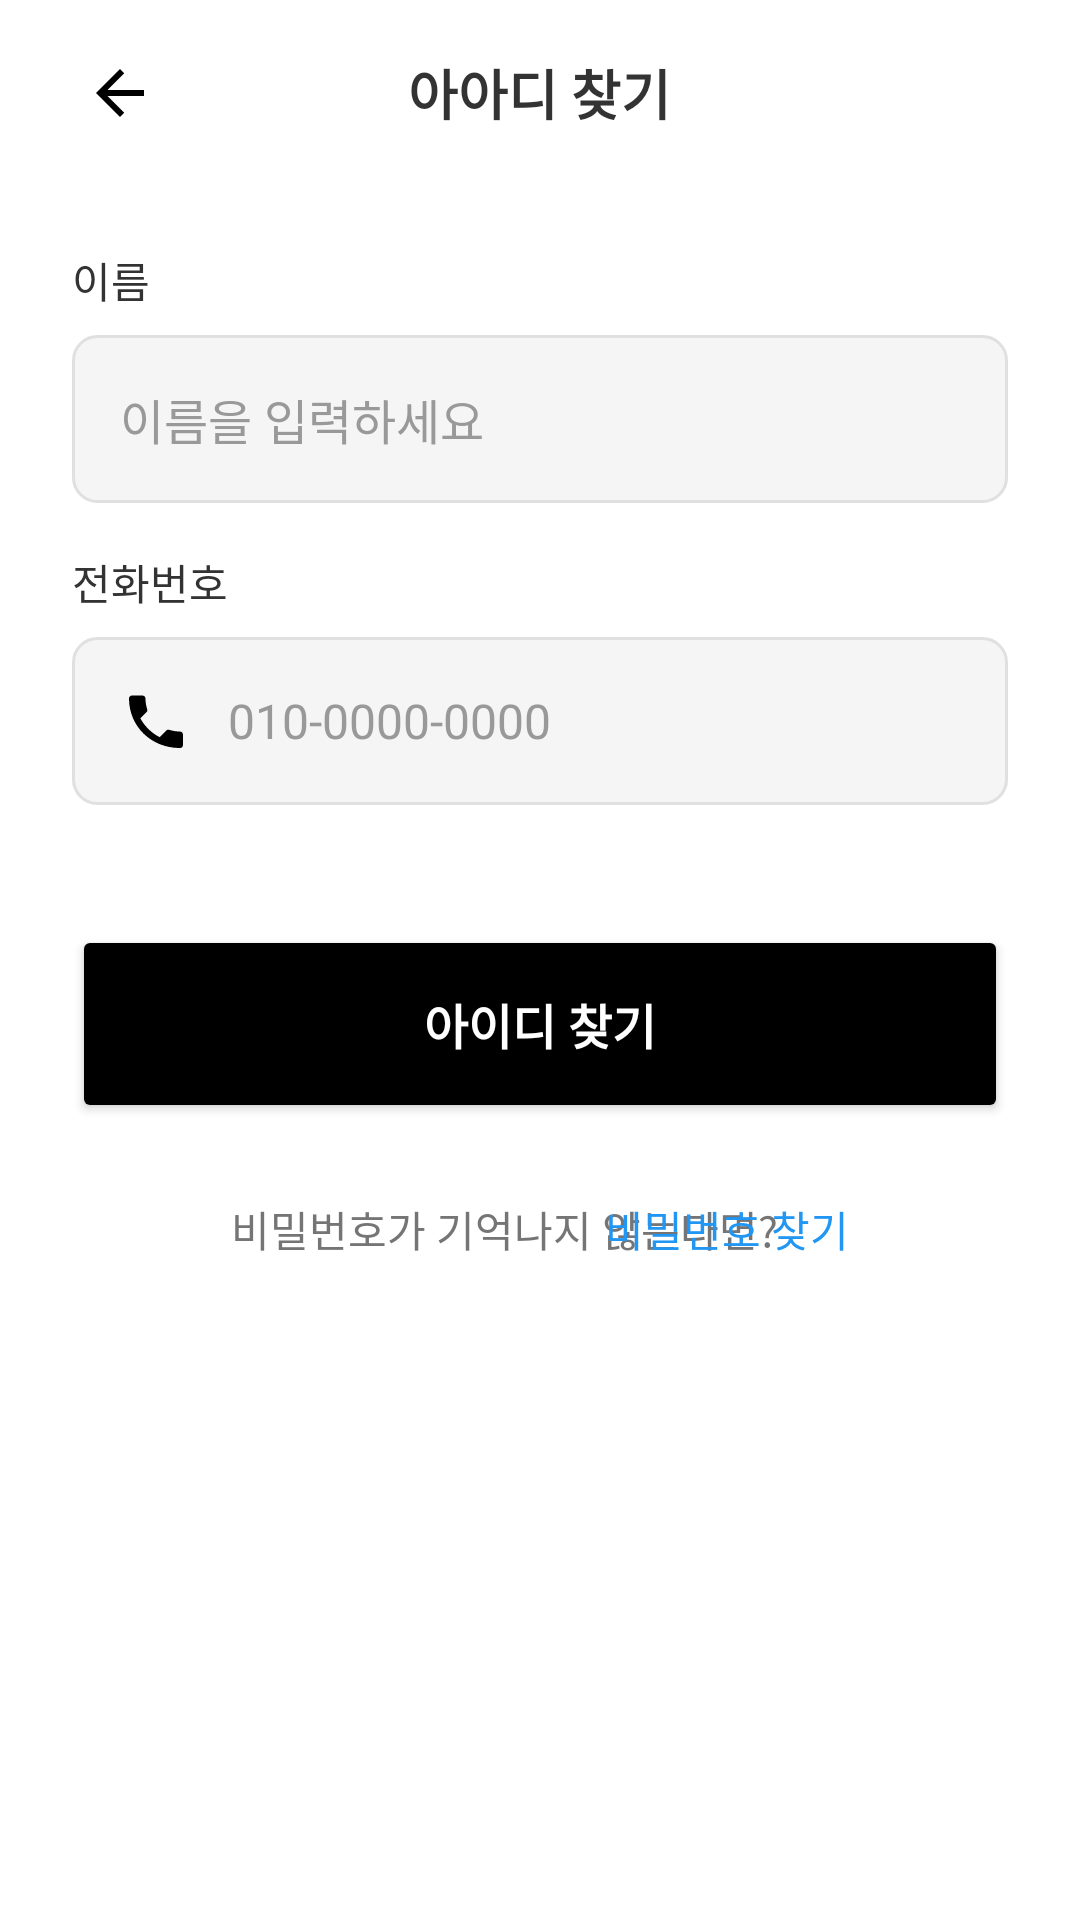

Where to tap for icons on this 1080×1920 app screen, as [x,y]:
뒤로 가기: [120,93]
